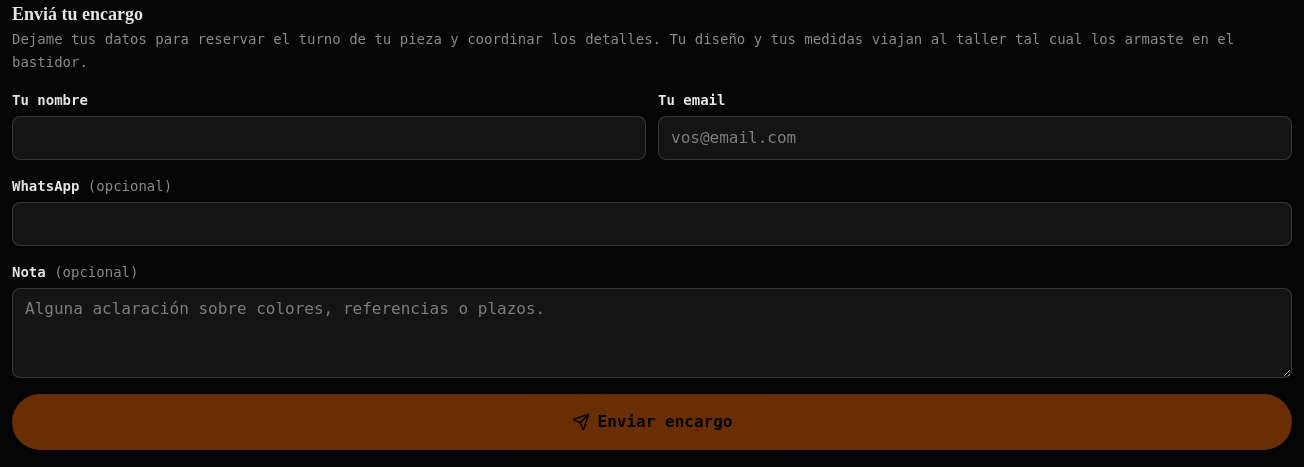
Test: OrderForm: el pago aparece solo después de enviar › la contorneada no ofrece pago online ni después de enviar
In the field labelled "Tu nombre": (329, 138) [12,116,646,160], type "Clienta"
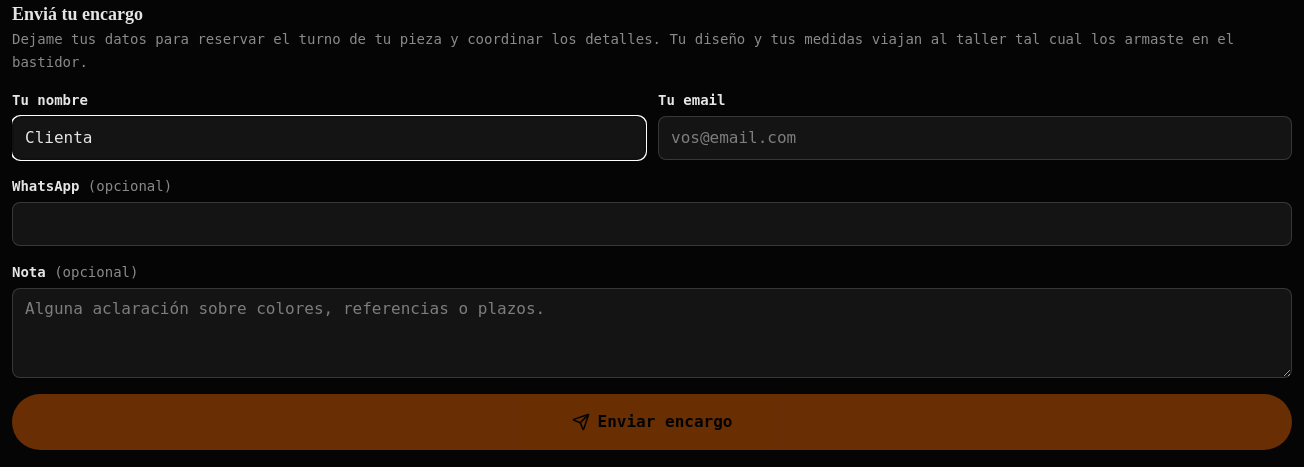
In the field labelled "Tu email": (975, 138) [658,116,1292,160], type "clienta@example.com"
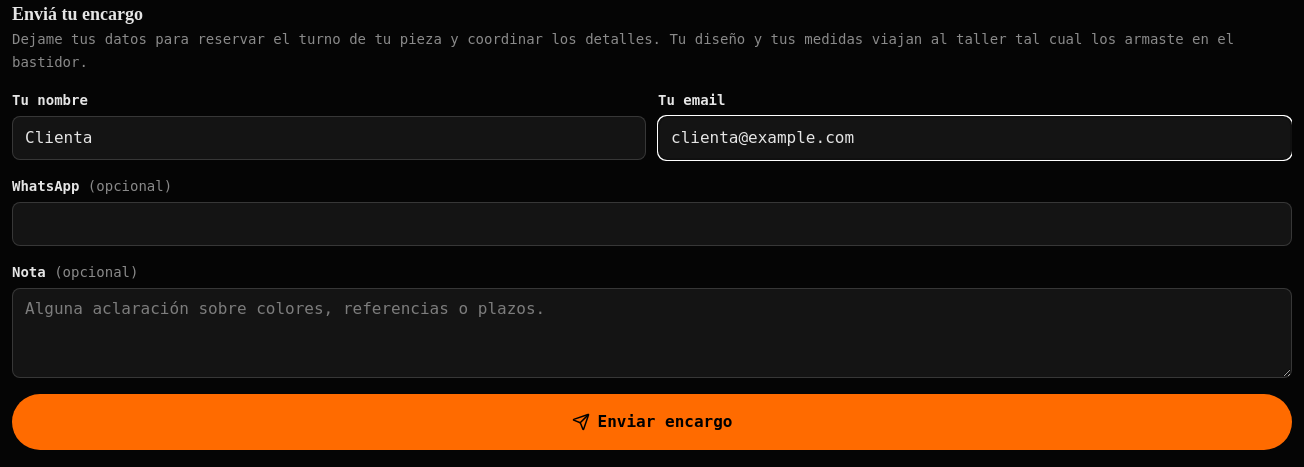
Click the button "Enviar encargo": (652, 422) [12,394,1292,450]
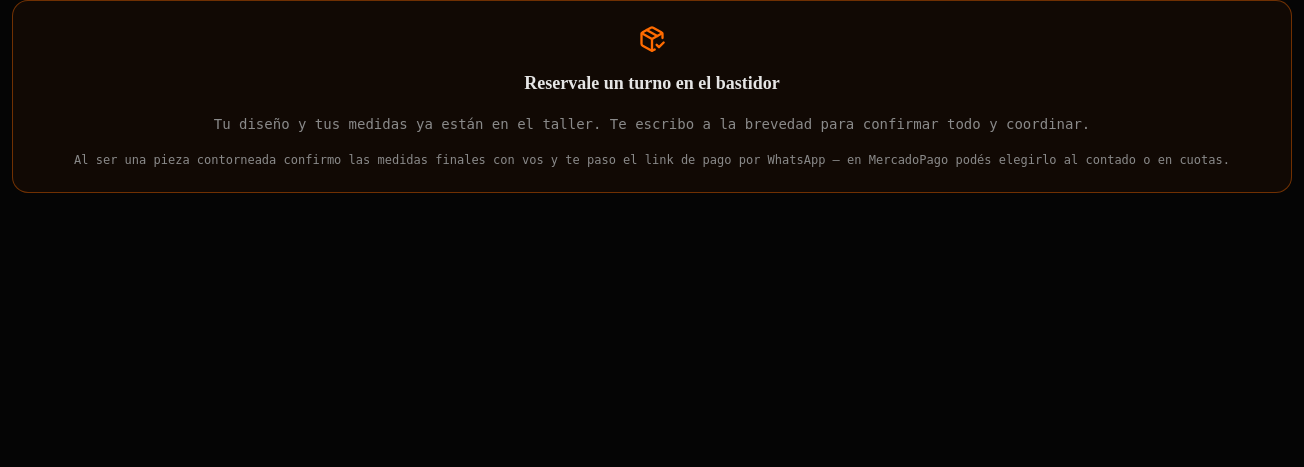
Expected: the text "Reservale un turno en el bastidor" is shown, [524,69,780,97]
Expected: the text "link de pago por whatsapp" is shown, [74,153,1230,167]
